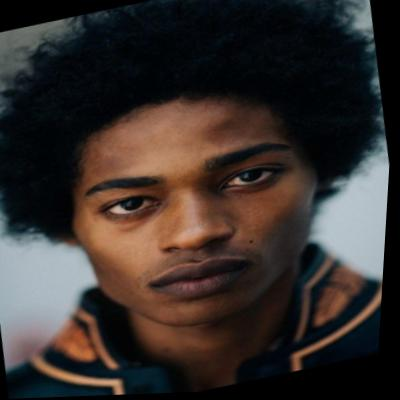netural: (68, 79, 333, 344)
